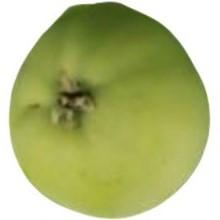fruit: (10, 0, 207, 220)
